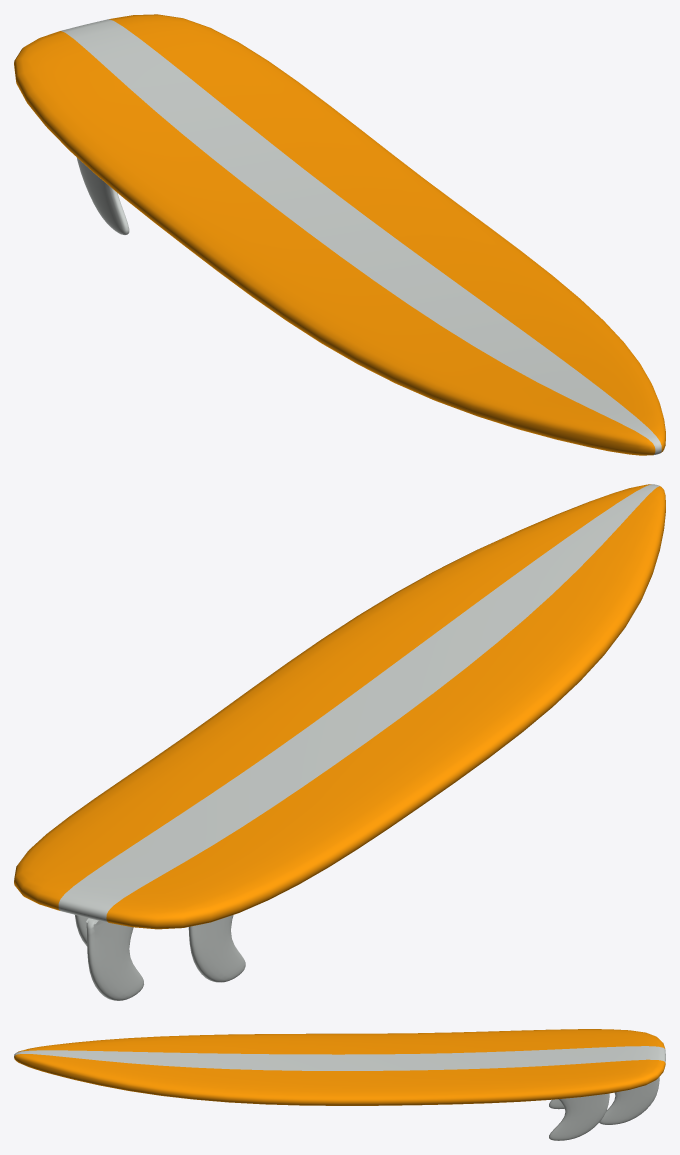
The model's file is SurfBoard.fbx.
3 views of the same model, one above another, from view 1: azimuth 30°, elevation 25°; view 2: azimuth 150°, elevation 25°; view 3: azimuth 270°, elevation 25° (orthographic). The views are drawn at different scales.
Visible parts, largest first — view 1: Plane.001; view 2: Plane.001; view 3: Plane.001.
Part boxes in pixels (left/top/right/bottom): Plane.001: left=14, top=14, right=665, bottom=455; Plane.001: left=14, top=484, right=665, bottom=1000; Plane.001: left=14, top=1029, right=665, bottom=1140.
Bounding box in the file's own units: 127 × 64.02 × 522.
